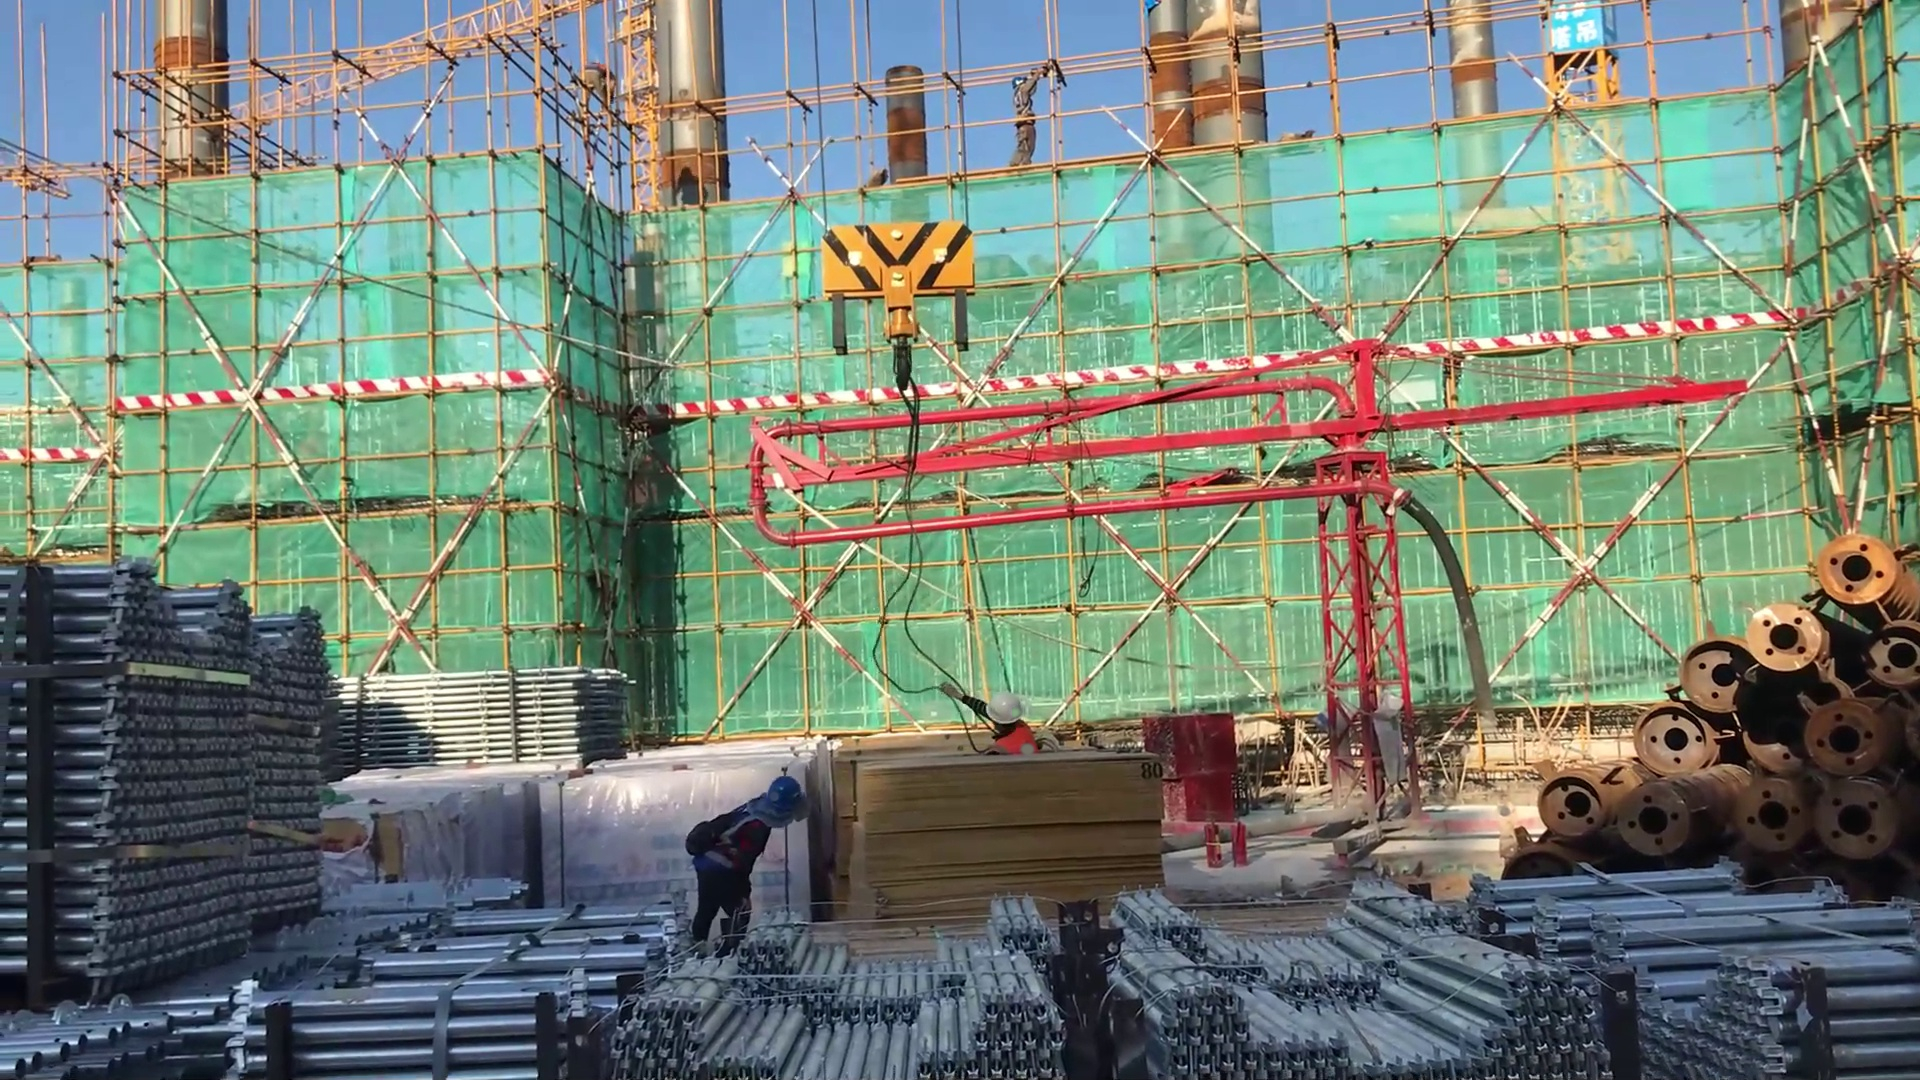board: (820, 748, 1170, 931)
helmet: (973, 680, 1038, 744), (751, 774, 811, 824), (1009, 65, 1033, 97)
hook: (795, 206, 1006, 478)
person: (686, 763, 808, 963), (940, 675, 1045, 768), (1004, 60, 1044, 178)
scaffold: (1, 545, 343, 995), (1, 870, 502, 1079), (1112, 892, 1606, 1080), (1472, 873, 1920, 1078), (679, 891, 1090, 1080), (504, 889, 697, 1077), (315, 666, 650, 774)
slogan: (1543, 1, 1620, 71)
vest: (693, 794, 775, 886), (988, 717, 1044, 764), (1010, 76, 1034, 125)
